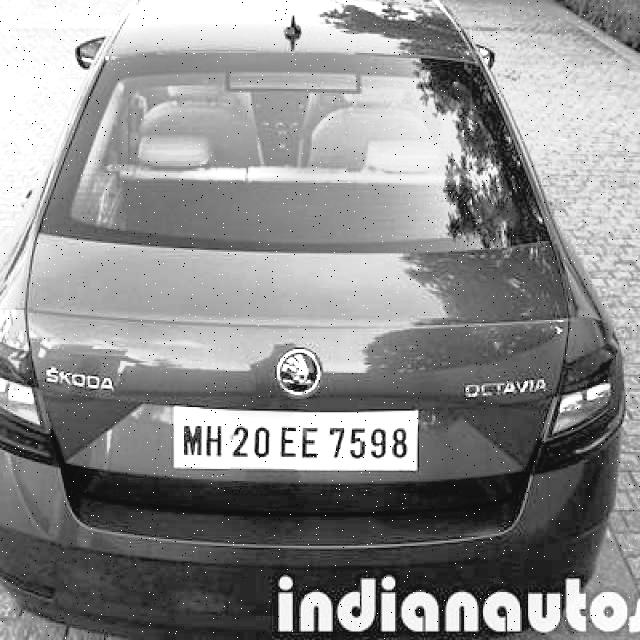Car: (5, 2, 640, 565)
